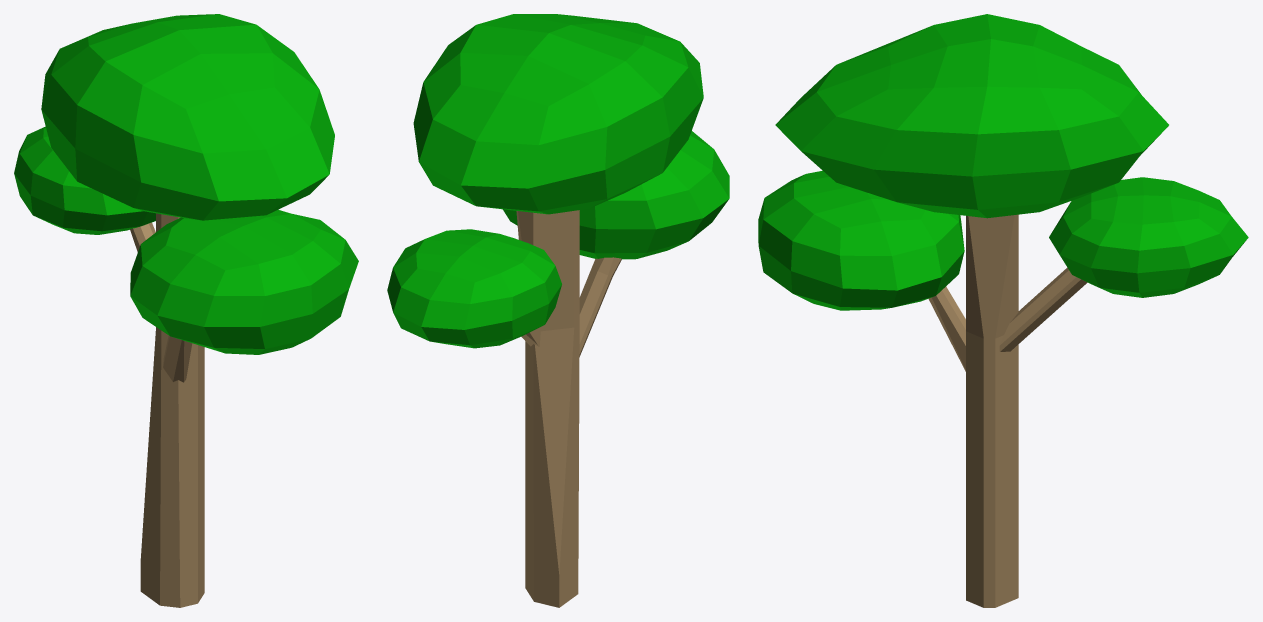
File: arbre.fbx
The picture shows the model from 3 angles, left to right: view 1: azimuth 30°, elevation 25°; view 2: azimuth 150°, elevation 25°; view 3: azimuth 270°, elevation 25°; orthographic projection.
Visible parts, largest first — view 1: Cube.003; view 2: Cube.003; view 3: Cube.003.
Part boxes in pixels (bbox=[...]): Cube.003: bbox=[14, 14, 358, 607]; Cube.003: bbox=[387, 14, 729, 607]; Cube.003: bbox=[758, 14, 1248, 607].
Size of the model in its own units: 349 by 833 by 663.
